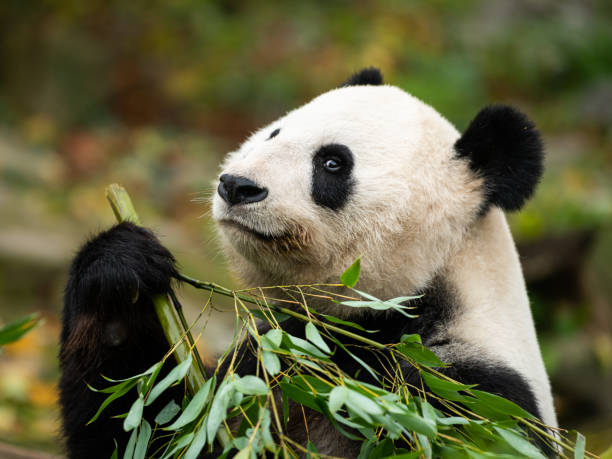panda: (205, 40, 612, 362)
